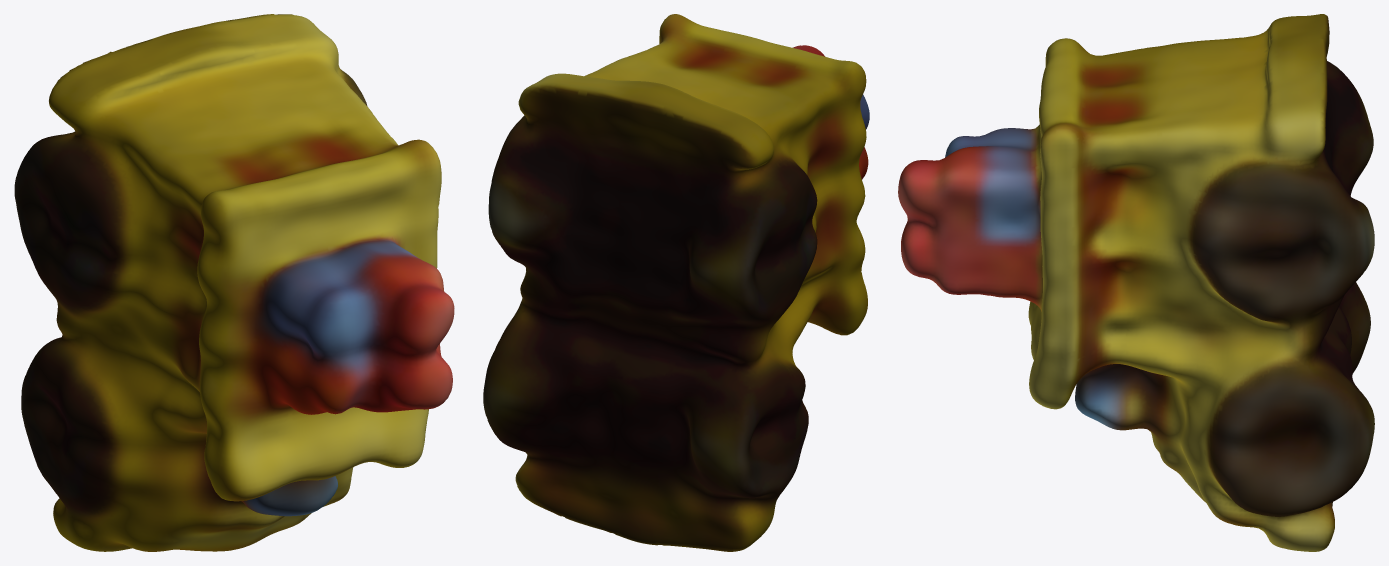
File: school_bus2.glb
3 renders of one model, left to right at view 1: azimuth 30°, elevation 25°; view 2: azimuth 150°, elevation 25°; view 3: azimuth 270°, elevation 25°, orthographic. The views are drawn at different scales.
Bounding box in the file's own units: 0.6518 × 0.9997 × 0.9409.
